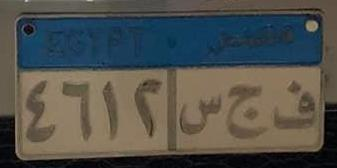1: (99, 80, 122, 143)
2: (128, 71, 165, 141)
4: (25, 75, 58, 148)
6: (59, 78, 94, 146)
faa: (269, 80, 317, 138)
jeem: (226, 76, 272, 145)
seen: (175, 91, 223, 143)
